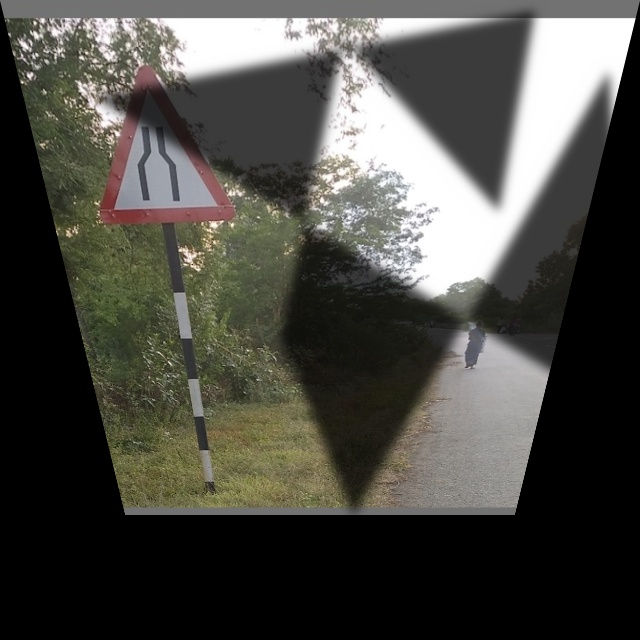Narrow_Road_Ahead: (69, 60, 240, 222)
